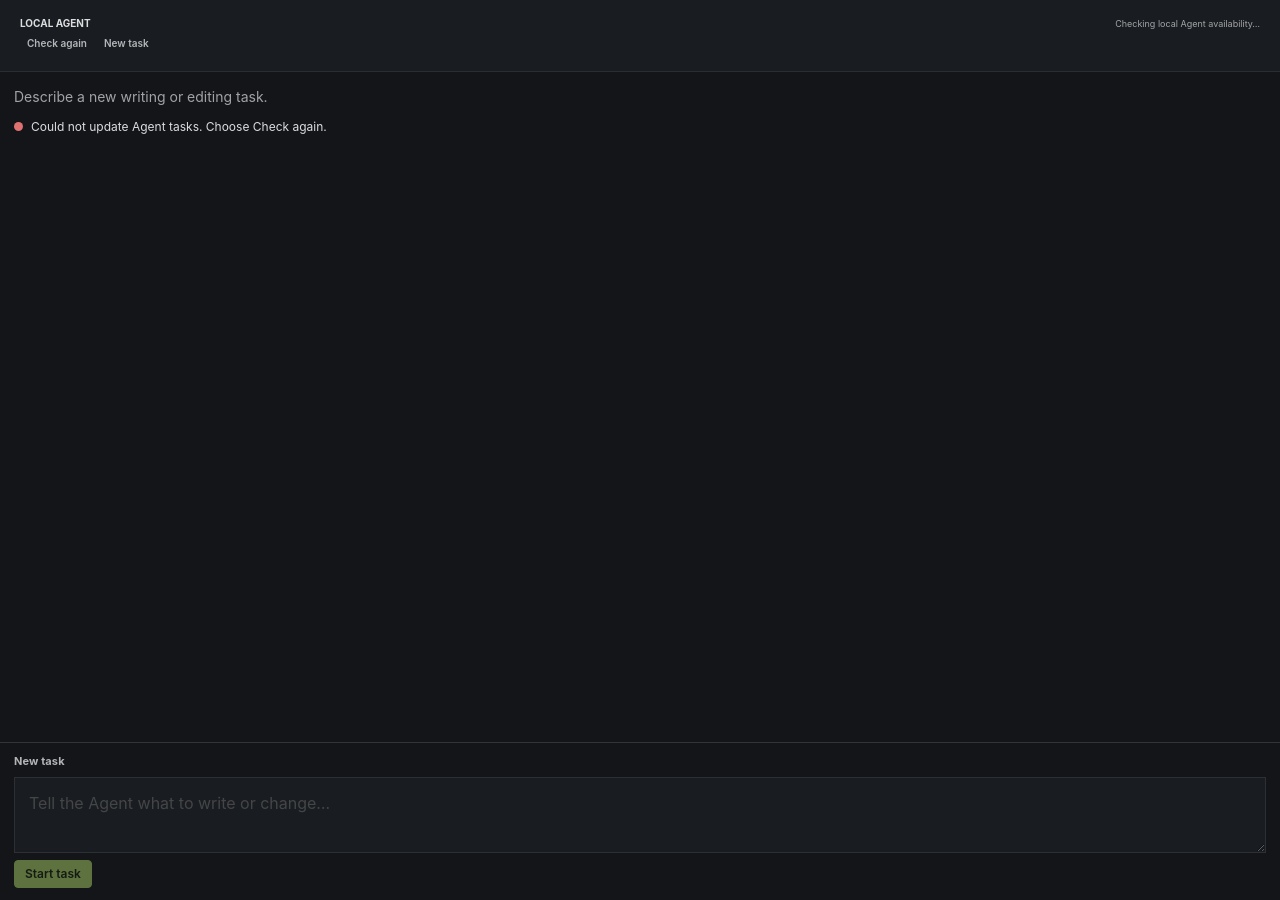
it: CreatorAgentPane › offers availability recovery only when the local Agent needs it
Check: the text "Could not update Agent tasks. Choose Check again." is shown, box [31,120,327,134]
Click the button "Check again" at (57, 43), box [20,32,94,54]
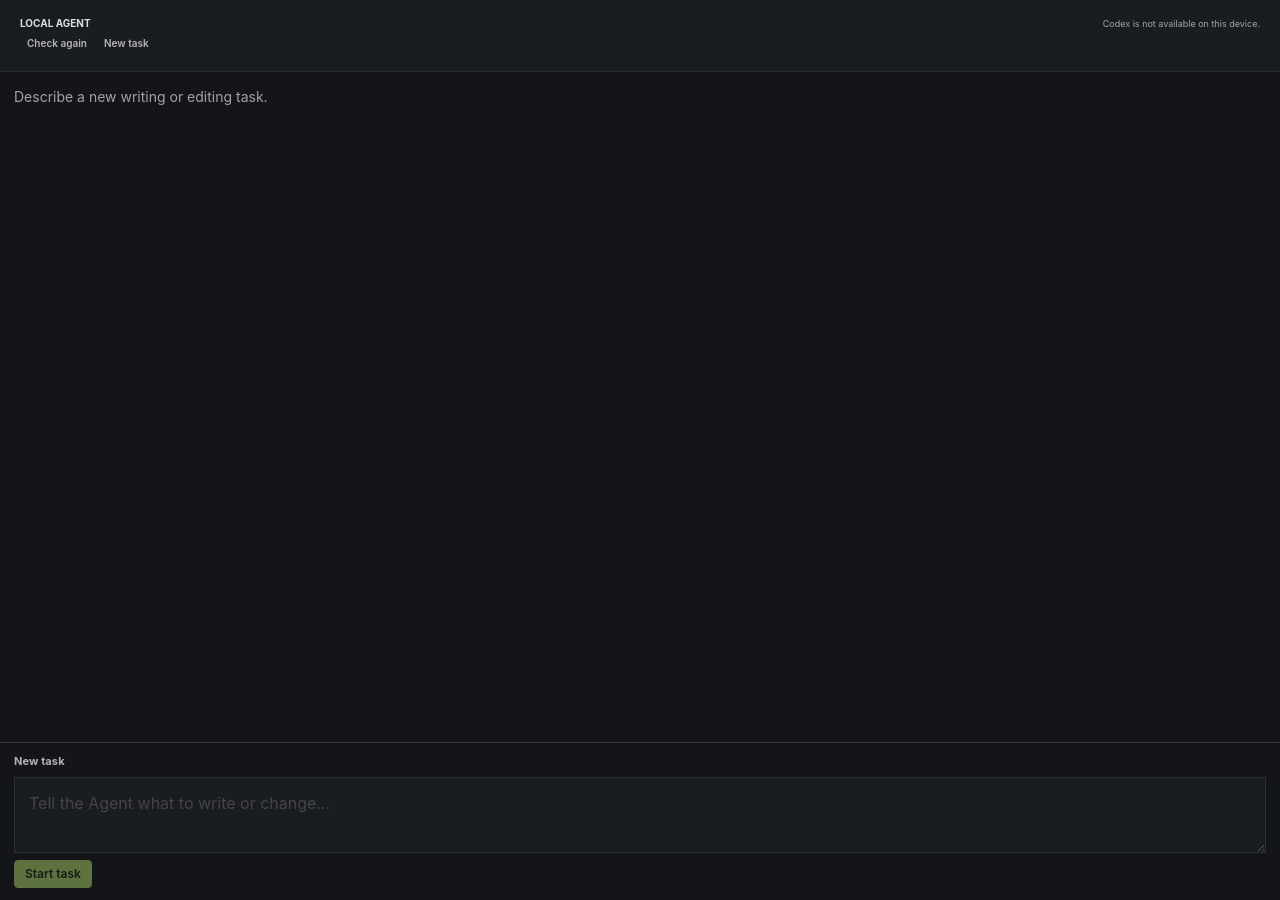
Check: the text "Codex is not available on this device." is shown, box [1103,18,1260,29]
